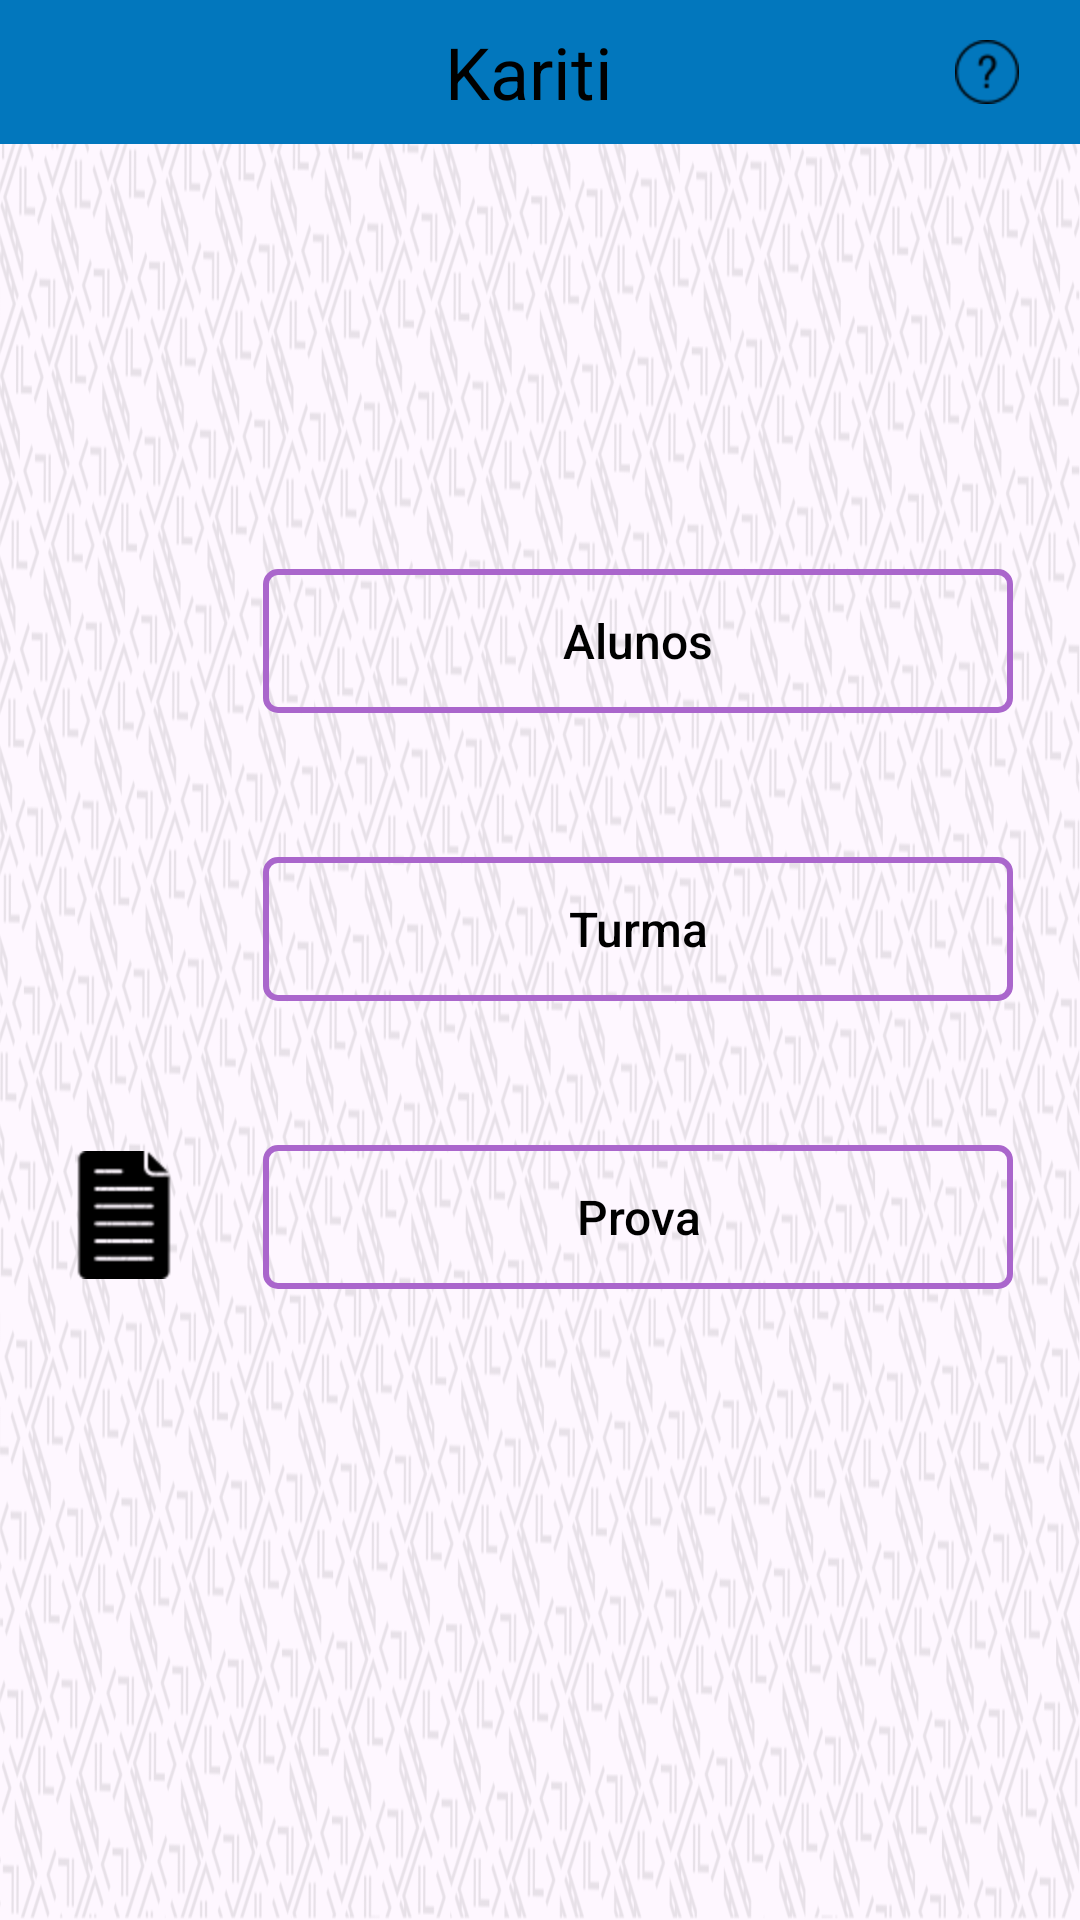

Screen size 1080x1920. Icon name, then its center in pixels as (x=x, y=y):
Ajuda: (x=987, y=72)
